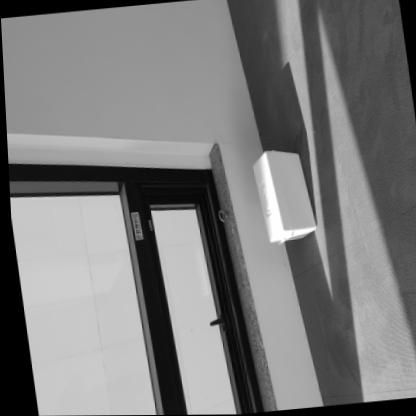DDL: (248, 144, 317, 246)
